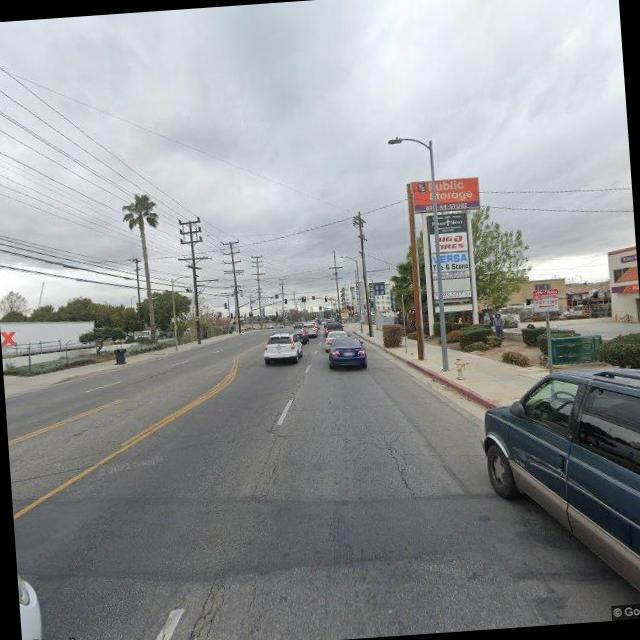crack: (247, 369, 313, 511), (164, 558, 232, 640), (369, 430, 432, 512), (400, 442, 496, 463)
